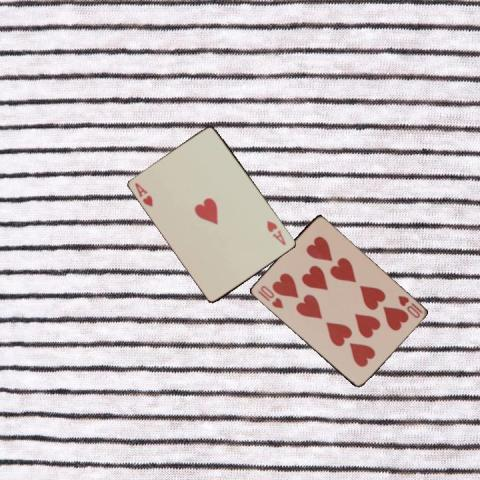10h: (254, 283, 285, 310), (395, 293, 424, 320)
Ah: (264, 217, 287, 247), (132, 179, 155, 209)
